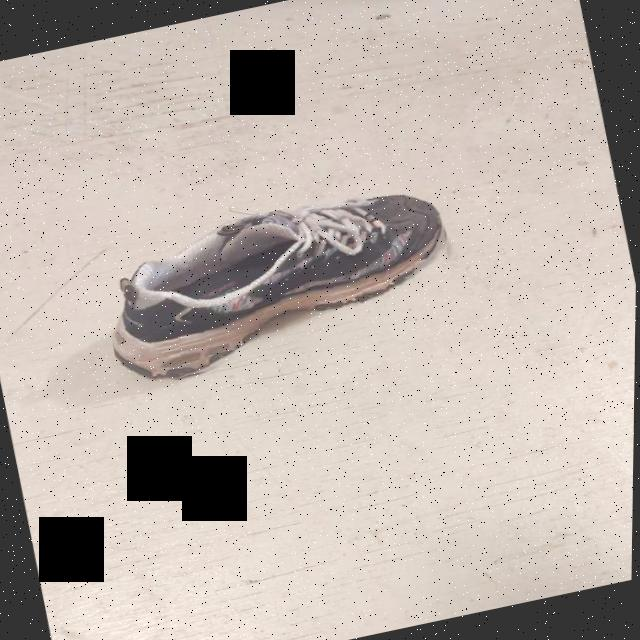shoe: (93, 177, 466, 392)
